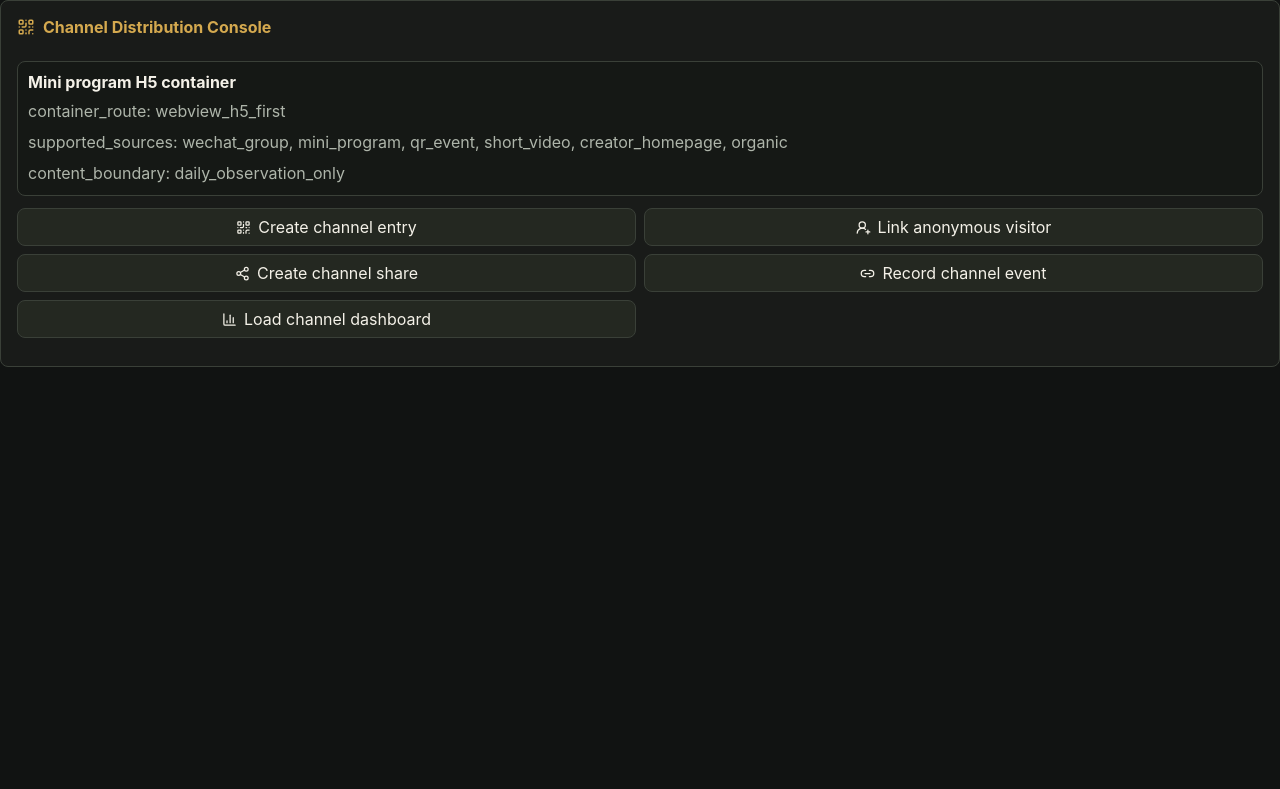
Test: phase 14 channel distribution panel › runs channel entry, binding, share, event, and dashboard actions without sensitive text
The width and height of the screenshot is (1280, 789).
Click the button "Create channel entry" at (326, 227), box [17, 208, 636, 246]
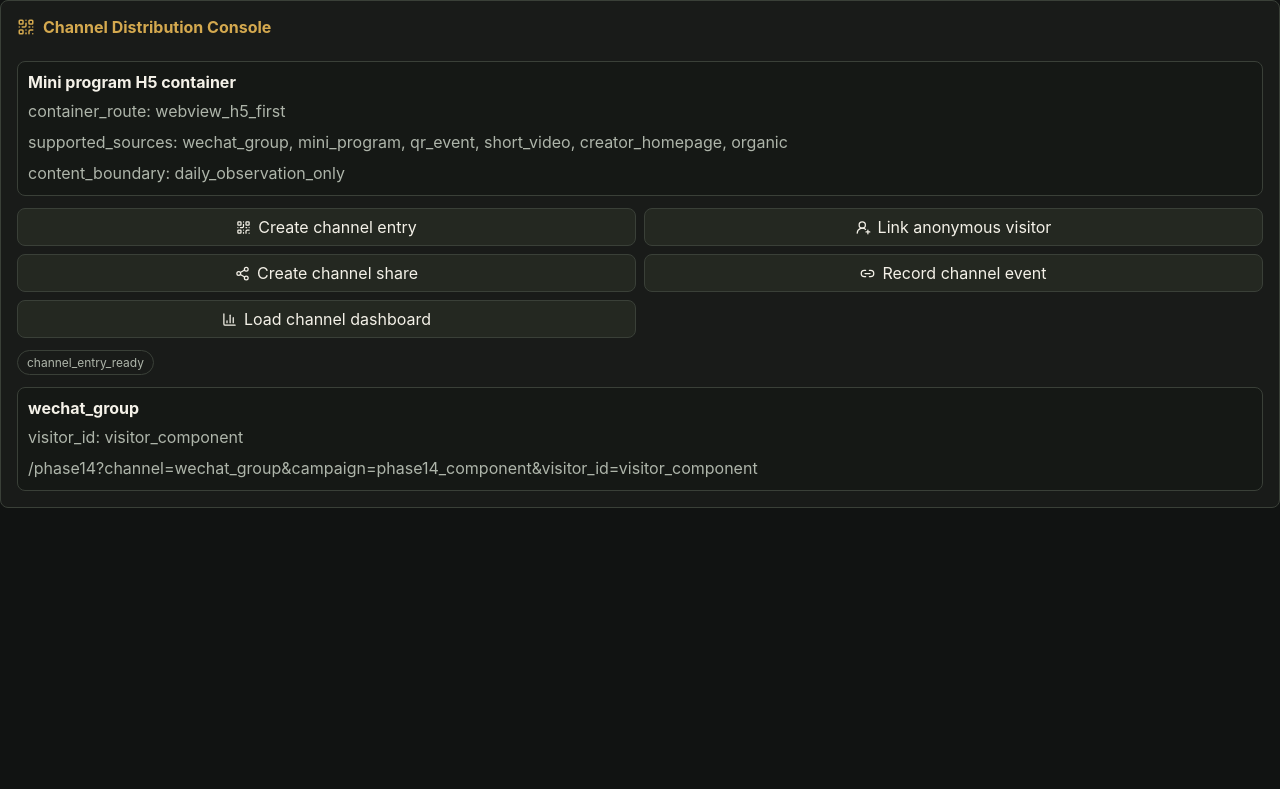
Result: the text "channel_entry_ready" is shown at [17, 350, 154, 375]
Click the button "Link anonymous visitor" at (954, 227), box [644, 208, 1263, 246]
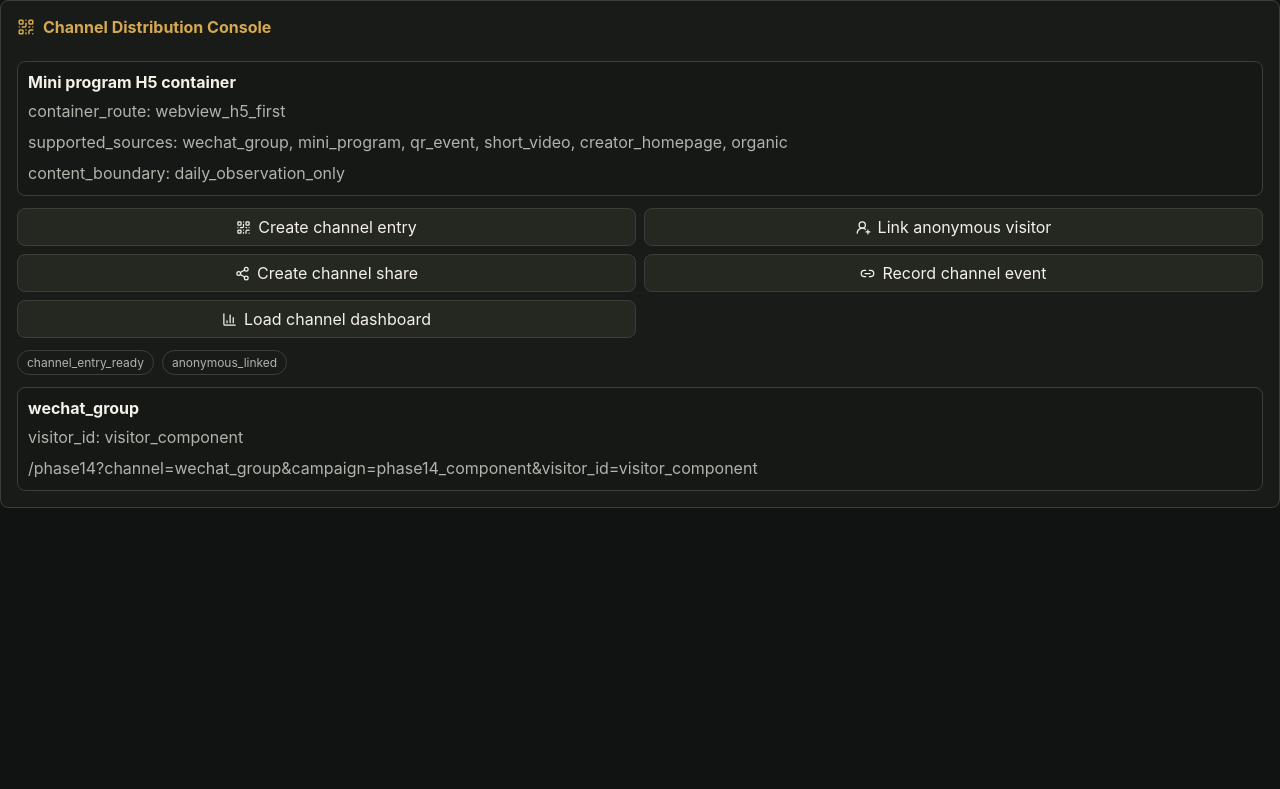
Result: the text "anonymous_linked" is shown at [162, 350, 287, 375]
Click the button "Create channel share" at (326, 273), box [17, 254, 636, 292]
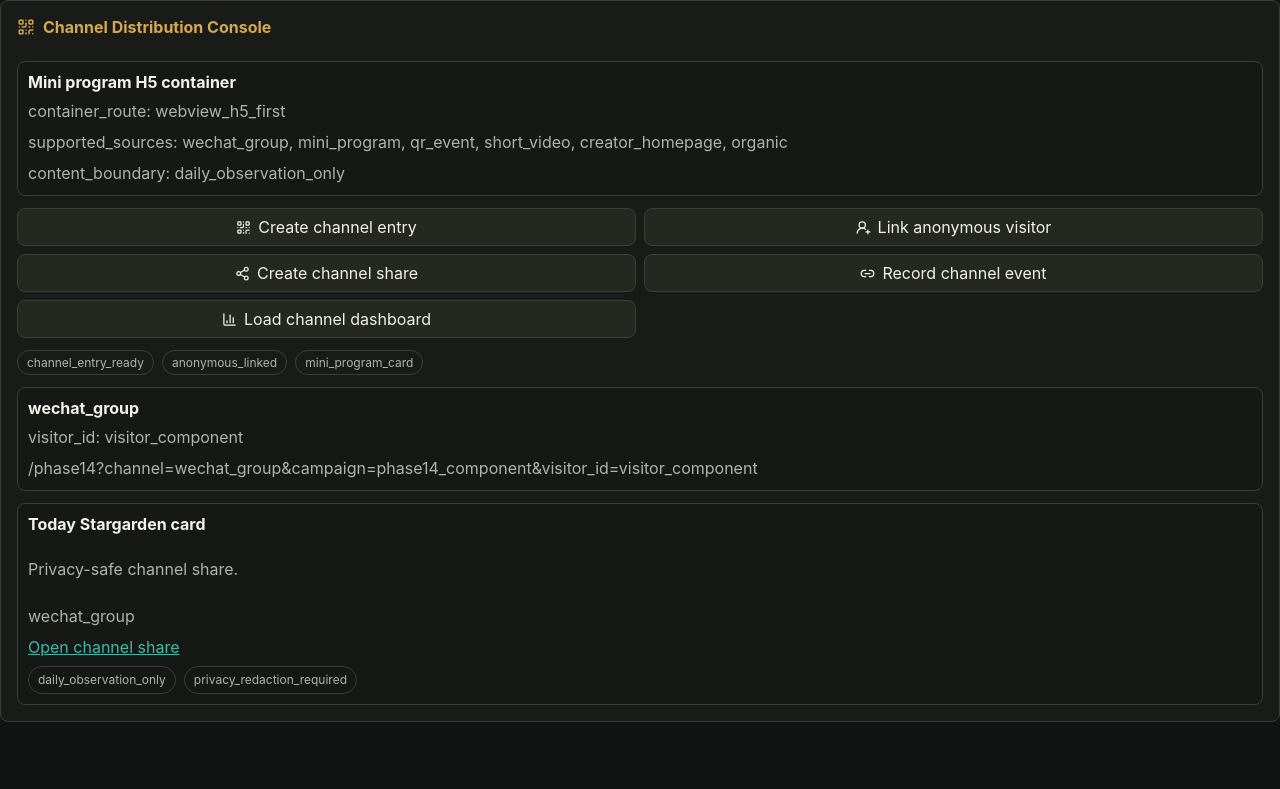
Result: the text "mini_program_card" is shown at [295, 350, 423, 375]
Click the button "Record channel event" at (954, 273), box [644, 254, 1263, 292]
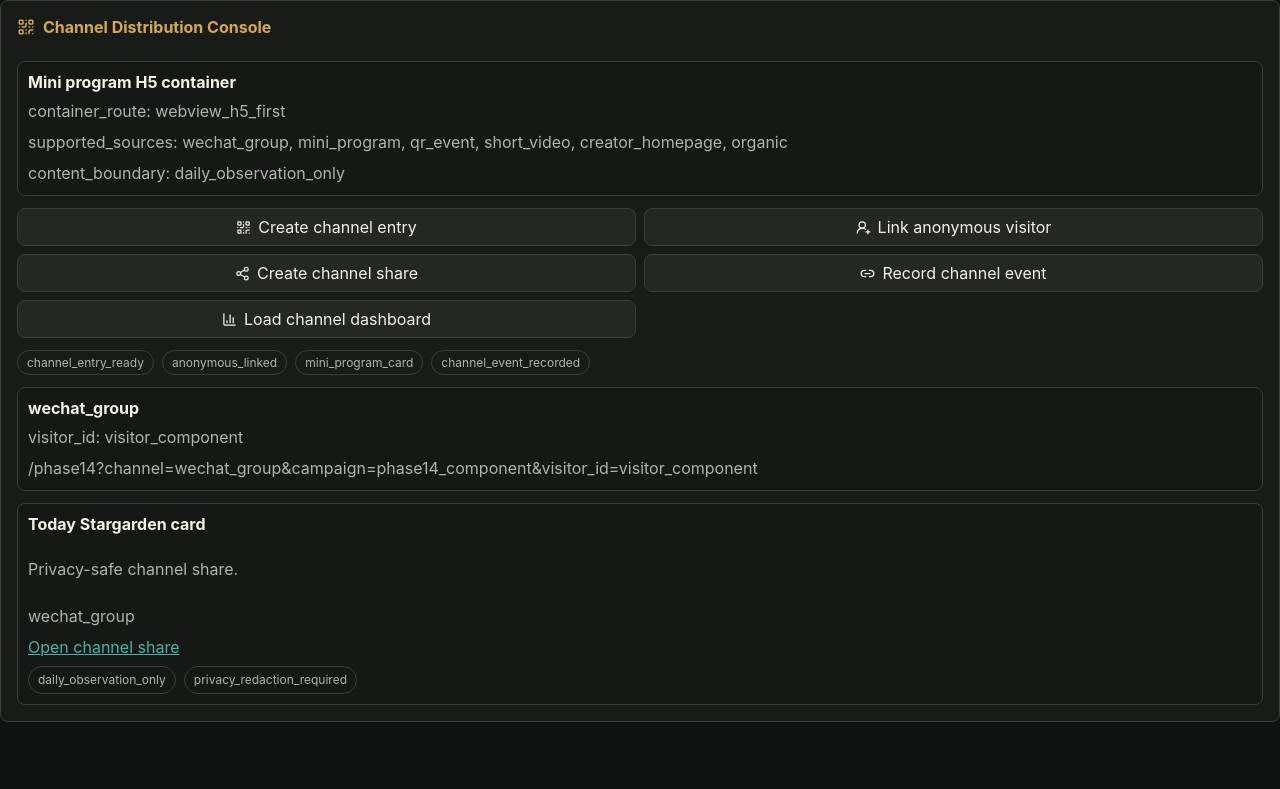
Result: the text "channel_event_recorded" is shown at [431, 350, 590, 375]
Click the button "Load channel dashboard" at (326, 319), box [17, 300, 636, 338]
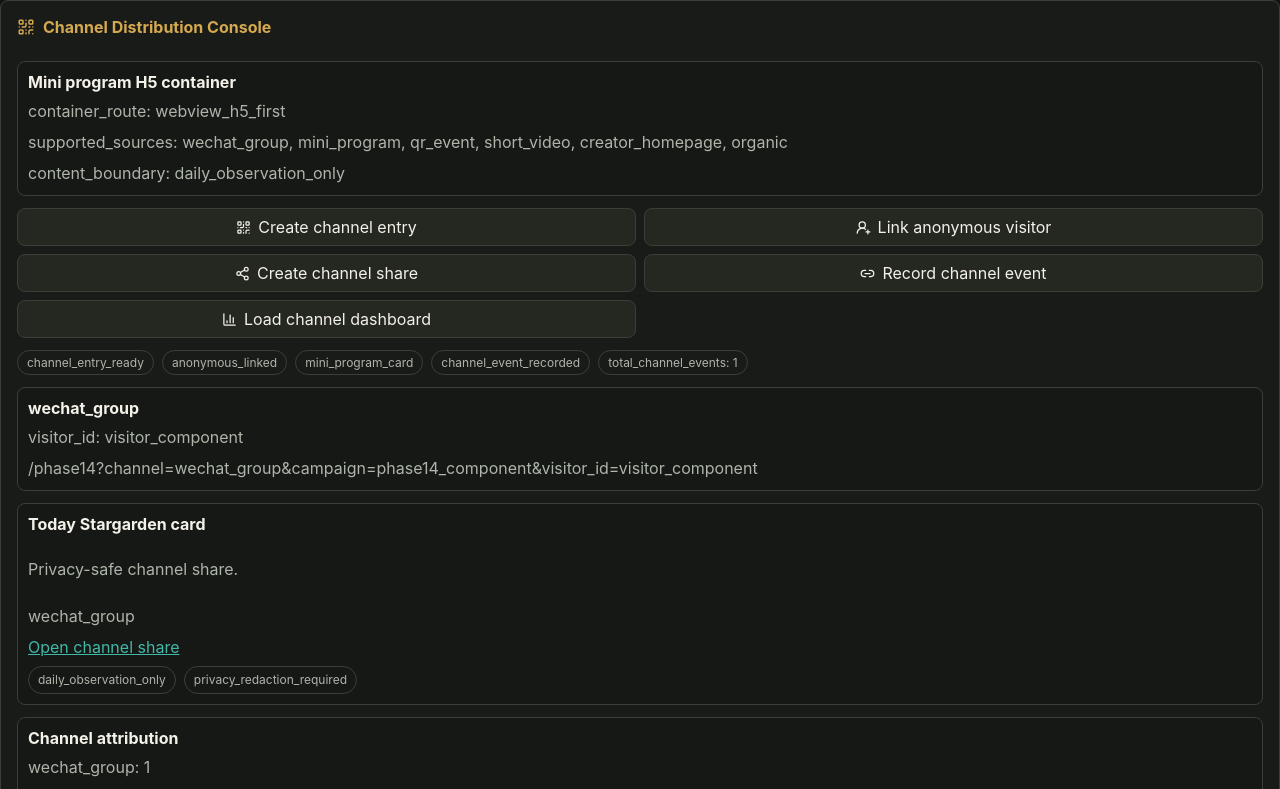
Result: the 1st text "wechat_group" is shown at [28, 398, 139, 418]
Result: the text "total_channel_events: 1" is shown at [598, 350, 748, 375]
